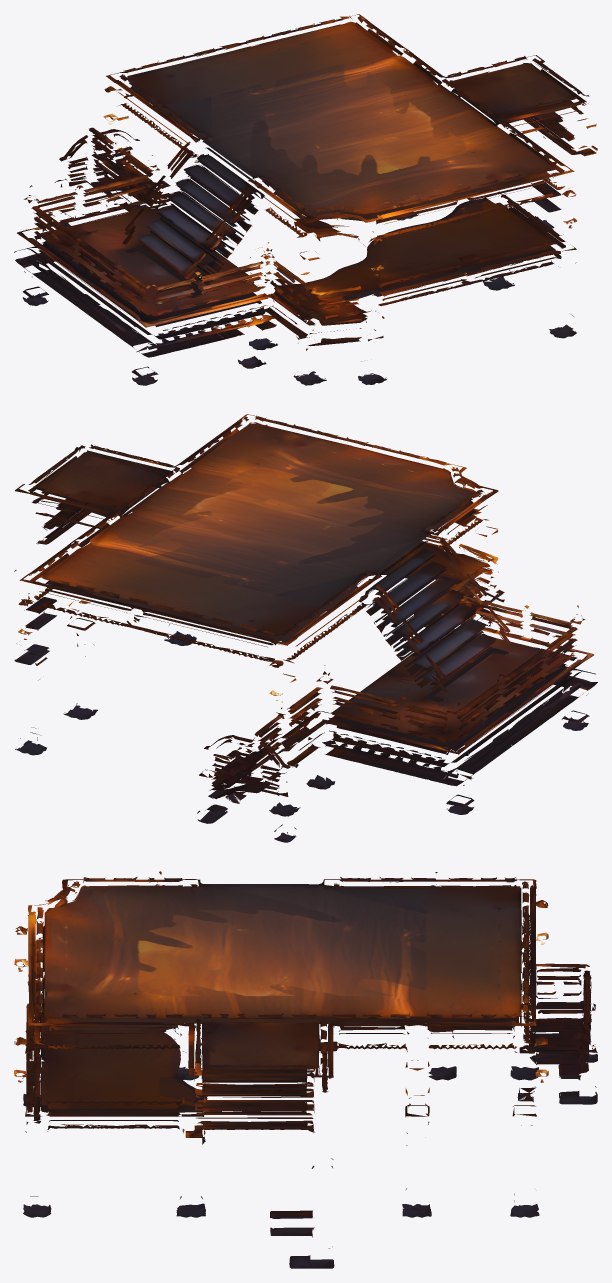
Rendered from DoubleStaresBase_Floor.fbx.
3 renders of one model, top to bottom at view 1: azimuth 30°, elevation 25°; view 2: azimuth 150°, elevation 25°; view 3: azimuth 270°, elevation 25°, orthographic. The views are drawn at different scales.
Parts seen in each view (by area): view 1: DoubleStaresBase_Floor; view 2: DoubleStaresBase_Floor; view 3: DoubleStaresBase_Floor.
Boxes of the visible parts, <box> form: DoubleStaresBase_Floor: <box>14,14,597,385</box>; DoubleStaresBase_Floor: <box>14,414,597,842</box>; DoubleStaresBase_Floor: <box>14,871,597,1268</box>.
Size of the model in its own units: 9.13 by 3.13 by 8.3.
1 material, 1 textured.
